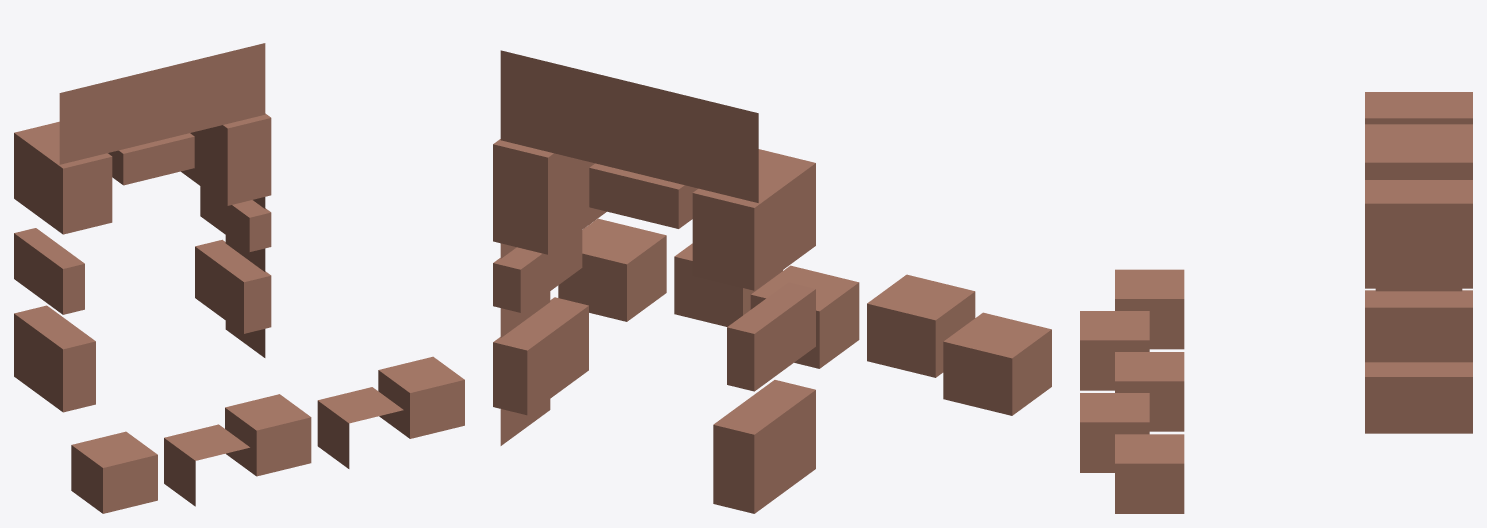
The model's file is muro_buraco.glb.
3 views of the same model, side by side, from view 1: azimuth 30°, elevation 25°; view 2: azimuth 150°, elevation 25°; view 3: azimuth 270°, elevation 25° (orthographic). The views are drawn at different scales.
Parts seen in each view (by area): view 1: Malha_0; view 2: Malha_0; view 3: Malha_0.
Part boxes in pixels (box(x1,y1,x2,y2)): Malha_0: box(14, 43, 464, 513); Malha_0: box(493, 50, 1051, 513); Malha_0: box(1080, 92, 1472, 513).
Bounding box in the file's own units: 1.32 × 1.1 × 1.13.
